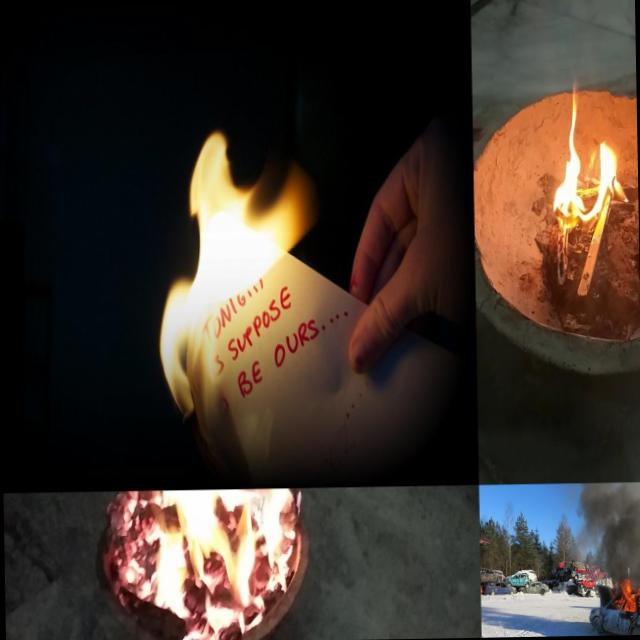fire: (147, 100, 326, 422), (138, 487, 309, 640), (544, 79, 628, 245), (92, 490, 140, 612), (609, 581, 640, 617)
